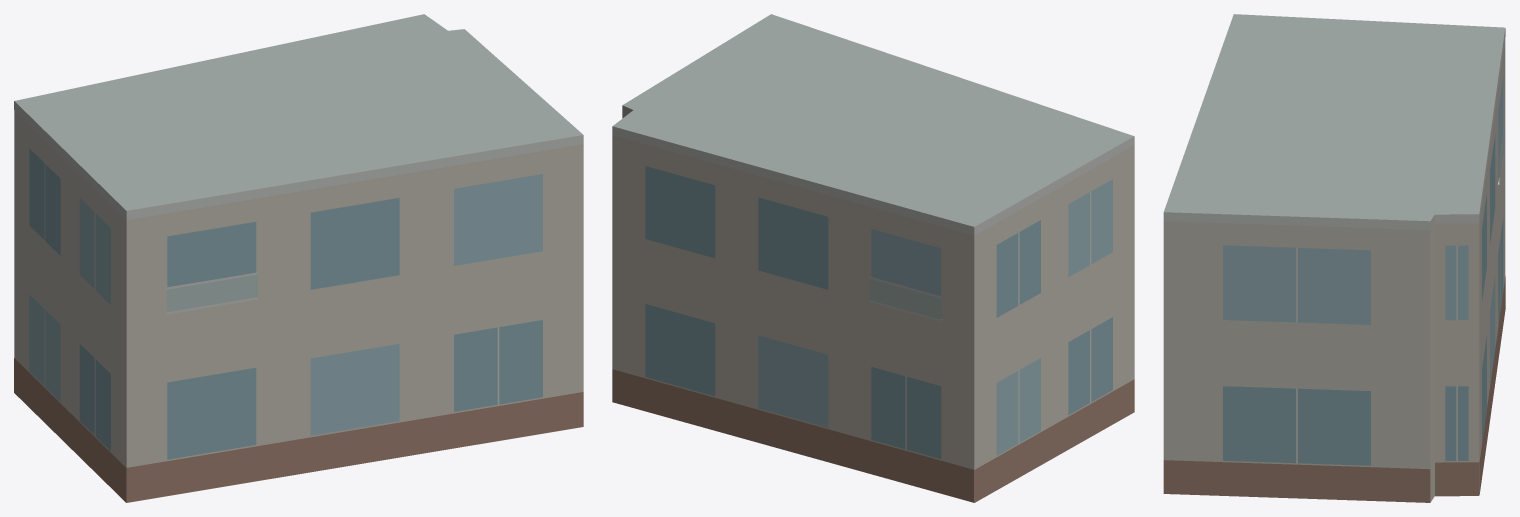
The model's file is survey-upis-32609186.glb.
3 renders of one model, left to right at view 1: azimuth 30°, elevation 25°; view 2: azimuth 150°, elevation 25°; view 3: azimuth 270°, elevation 25°, orthographic. The views are drawn at different scales.
Parts seen in each view (by area): view 1: survey-upis-32609186.tmp; view 2: survey-upis-32609186.tmp; view 3: survey-upis-32609186.tmp.
Part boxes in pixels (left/top/right/bottom): survey-upis-32609186.tmp: left=14, top=14, right=583, bottom=502; survey-upis-32609186.tmp: left=612, top=14, right=1134, bottom=502; survey-upis-32609186.tmp: left=1163, top=14, right=1505, bottom=502.
Bounding box in the file's own units: 12.16 × 7.7 × 8.48.
